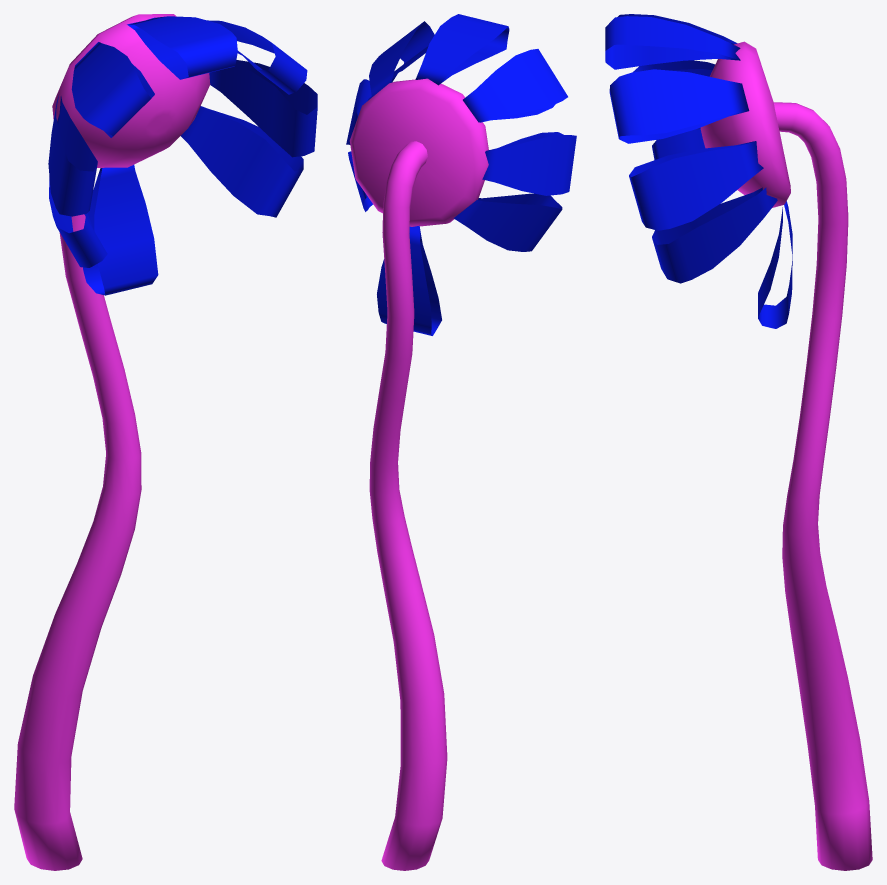
File: flower_fruits.fbx
The picture shows the model from 3 angles, left to right: view 1: azimuth 30°, elevation 25°; view 2: azimuth 150°, elevation 25°; view 3: azimuth 270°, elevation 25°; orthographic projection. The views are drawn at different scales.
Parts seen in each view (by area): view 1: Line002, Petales_011, Petales_012, Petales_010, Petales_015, Plane155, Petales_014, Petales_009, Petales_013; view 2: Line002, Petales_015, Petales_014, Petales_013, Plane155, Petales_012, Petales_009, Petales_010; view 3: Line002, Petales_009, Petales_010, Petales_011, Plane155, Petales_012, Petales_013, Petales_014.
Boxes of the visible parts, box(x1,y1,x2,y2) form: Line002: box(14, 14, 210, 870); Petales_011: box(181, 106, 303, 217); Petales_012: box(83, 165, 158, 295); Petales_010: box(209, 60, 317, 157); Petales_015: box(71, 42, 154, 137); Plane155: box(127, 16, 237, 79); Petales_014: box(48, 95, 97, 216); Petales_009: box(207, 20, 307, 94); Petales_013: box(49, 177, 107, 267); Line002: box(349, 78, 488, 870); Petales_015: box(463, 49, 567, 122); Petales_014: box(482, 132, 576, 195); Petales_013: box(453, 193, 562, 251); Plane155: box(415, 14, 509, 85); Petales_012: box(377, 225, 441, 335); Petales_009: box(369, 21, 434, 96); Petales_010: box(346, 79, 371, 144); Line002: box(700, 41, 872, 870); Petales_009: box(609, 69, 749, 143); Petales_010: box(629, 141, 763, 230); Petales_011: box(652, 187, 777, 283); Plane155: box(605, 16, 740, 69); Petales_012: box(758, 201, 792, 328); Petales_013: box(652, 127, 705, 159); Petales_014: box(632, 60, 715, 76).
Bounding box in the file's own units: 6.67 × 22.49 × 6.46.
